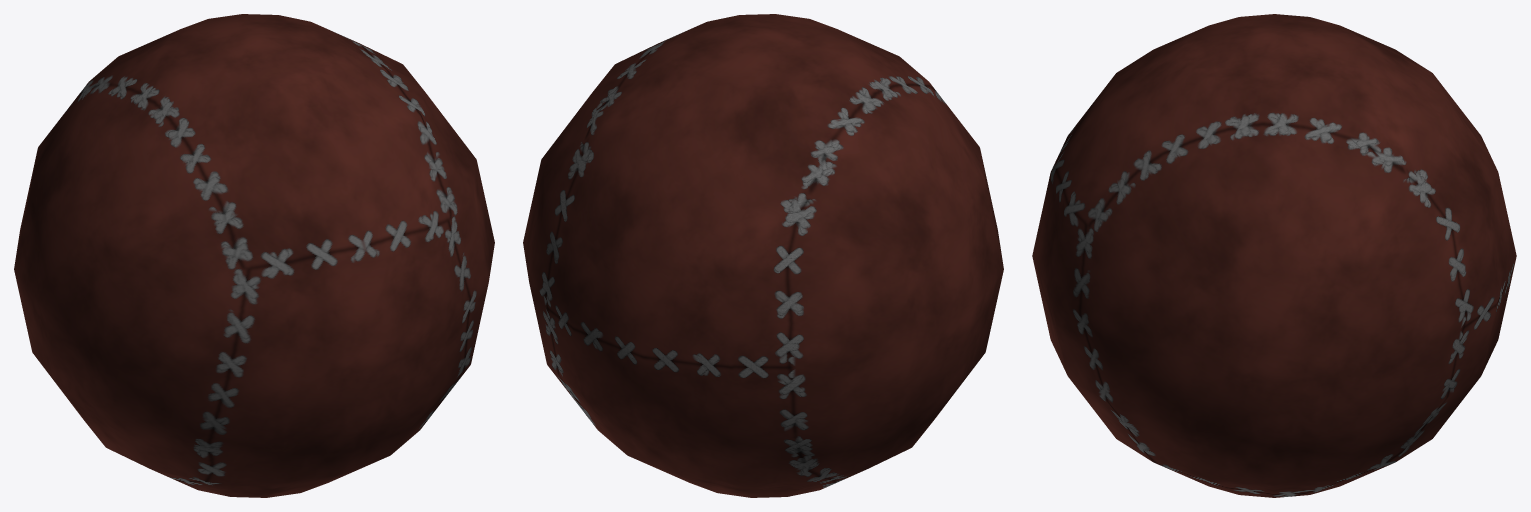
Rendered from ball.glb.
3 renders of one model, left to right at view 1: azimuth 30°, elevation 25°; view 2: azimuth 150°, elevation 25°; view 3: azimuth 270°, elevation 25°, orthographic.
Visible parts, largest first — view 1: ballon; view 2: ballon; view 3: ballon.
Boxes of the visible parts, x1,y1,x2,y2 form: ballon: (14, 14, 494, 497); ballon: (523, 14, 1003, 497); ballon: (1032, 14, 1516, 497).
Size of the model in its own units: 2 by 2 by 2.
Materials: 1 (1 with a texture image).
